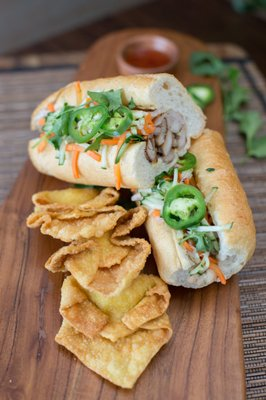soup: (23, 72, 258, 290)
